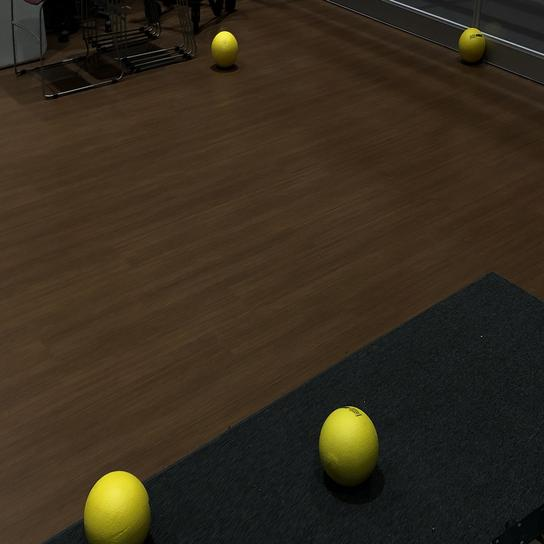ball: (314, 403, 382, 489), (81, 468, 154, 544), (209, 26, 240, 72), (456, 25, 486, 66)
